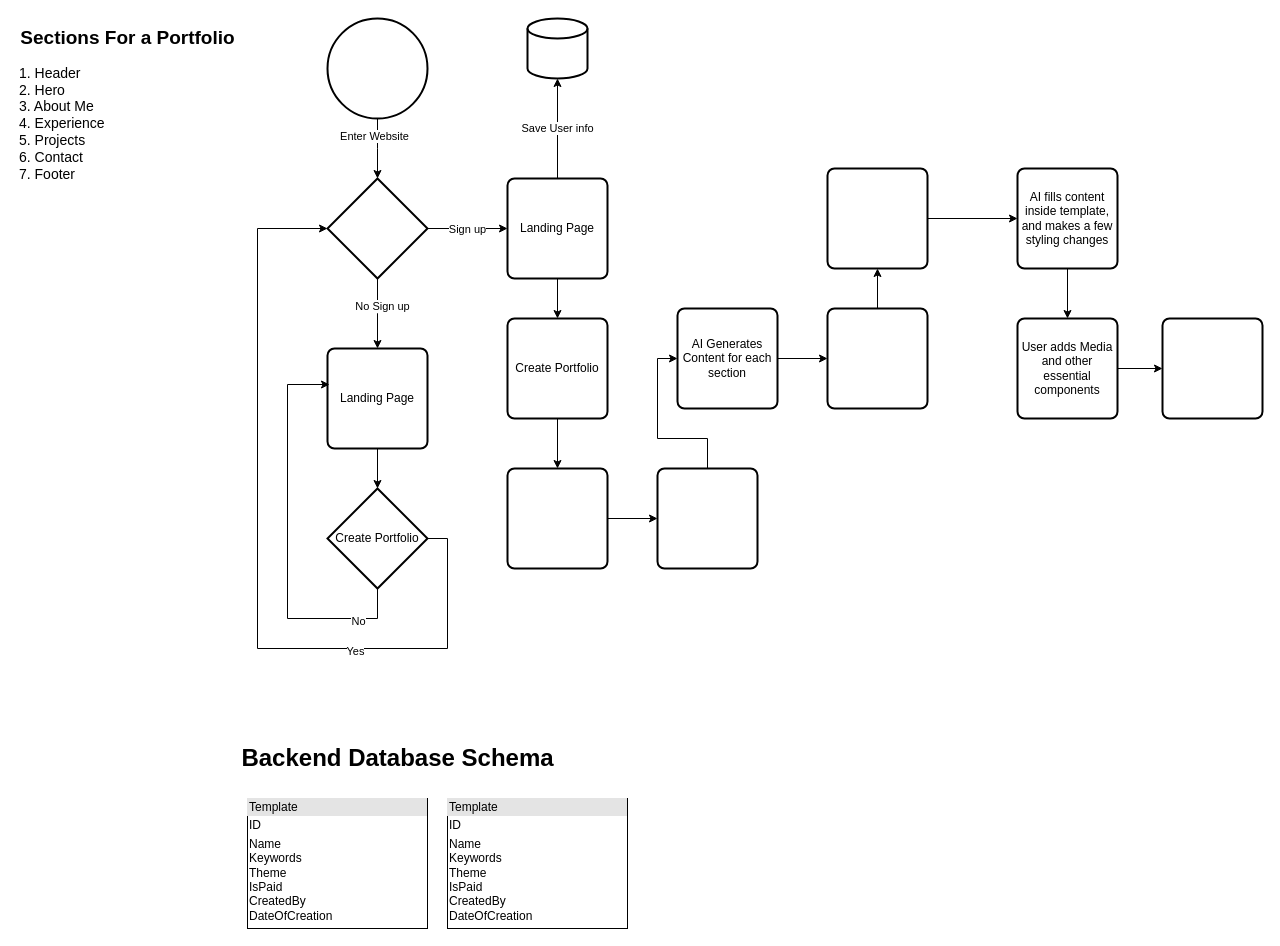
The diagram is 1280 pixels wide and 946 high, and some of its shapes have lost their labels. Here are the shapes that lost their labels. From the top down, the centre of each, then its label:
At (x=877, y=218): "AI chooses portfolio components based on selection".
At (x=877, y=358): "AI Gives User option to choose theme".
At (x=1212, y=368): "Portfolio is Uploaded".
At (x=557, y=518): "Upload Resume".
At (x=707, y=518): "AI Parses Resume".
